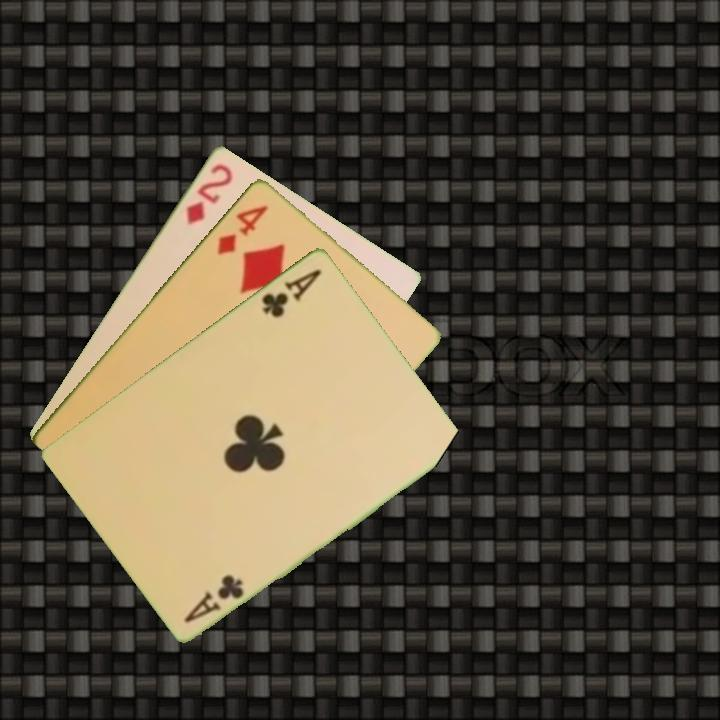2d: (182, 159, 236, 227)
4d: (213, 200, 271, 257)
Ac: (257, 264, 325, 320), (180, 570, 247, 626)
